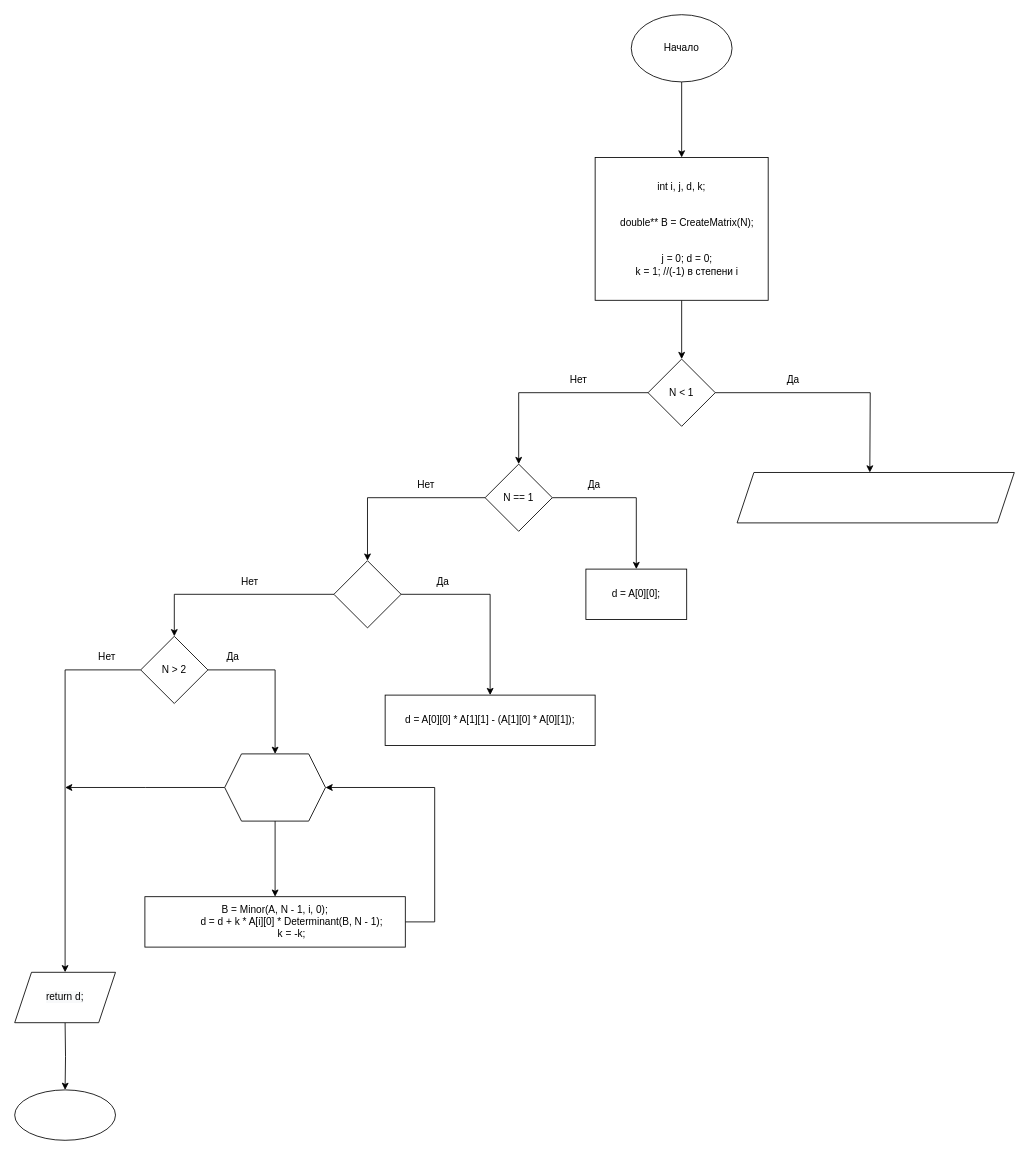
The diagram is 1029 pixels wide and 1155 high, and some of its shapes have lost their labels. Here are the shapes that lost their labels. From the top down, the centre of each, then its label:
(875,497): cout << "Определитель вычислить невозможно!";
(367,594): N == 2
(275,787): i = 0; i < N; i++
(65,1114): Конец
